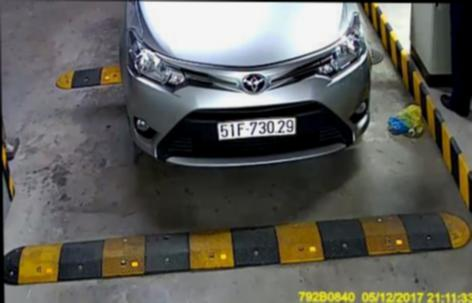License_Plate: (212, 116, 302, 142)
